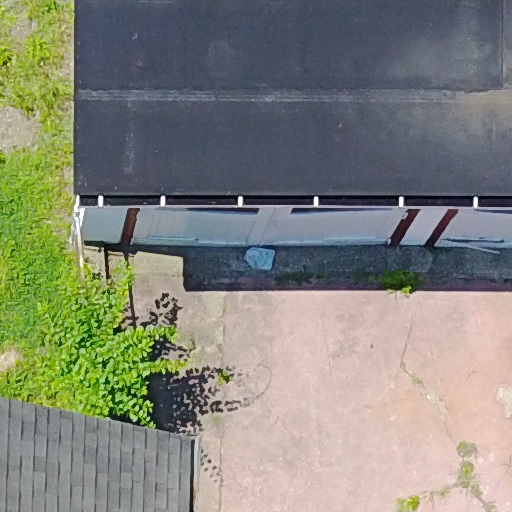trash: (236, 244, 284, 269)
